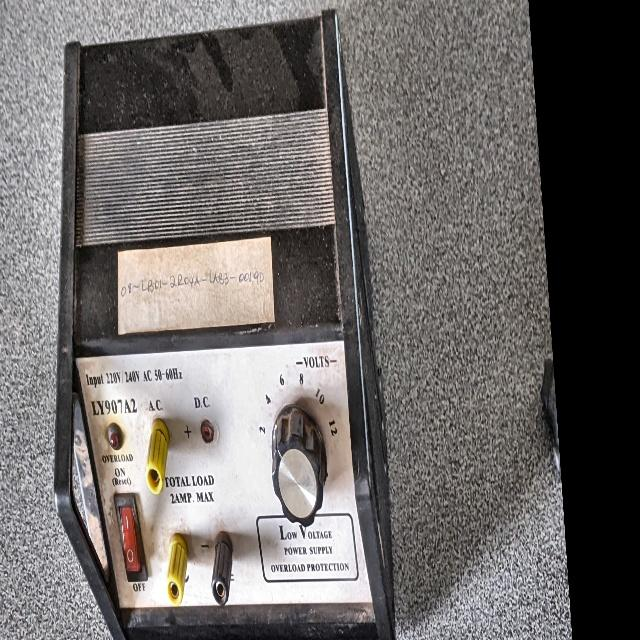AC-AD Regulated Power Supply: (16, 1, 410, 640)
